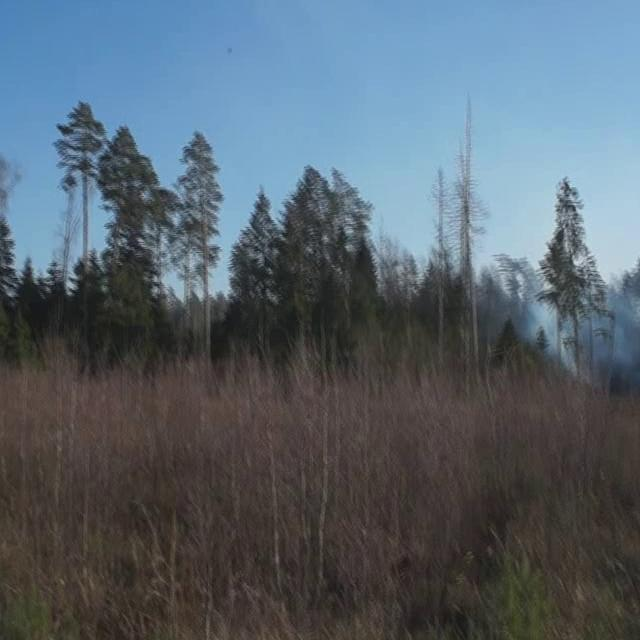Smoke: (511, 247, 639, 399)
